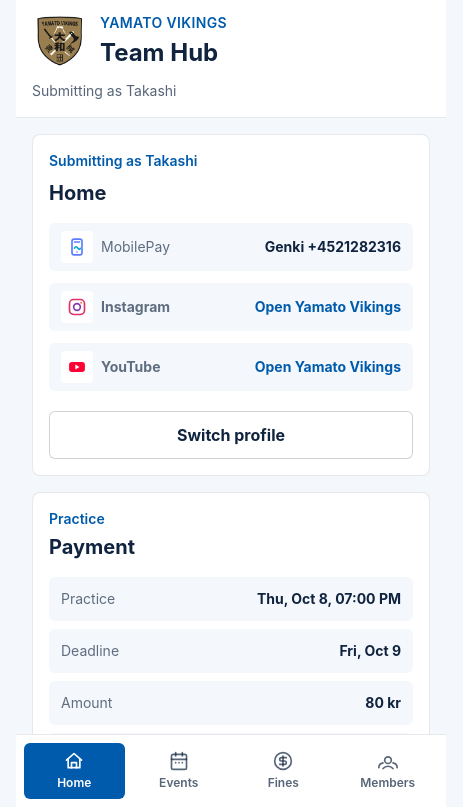
App shell › keeps an admin member payment exemption after saving
expect the heading "Home" is shown: met, box [49, 181, 106, 205]
Click the link "Members": (388, 770) [360, 751, 415, 790]
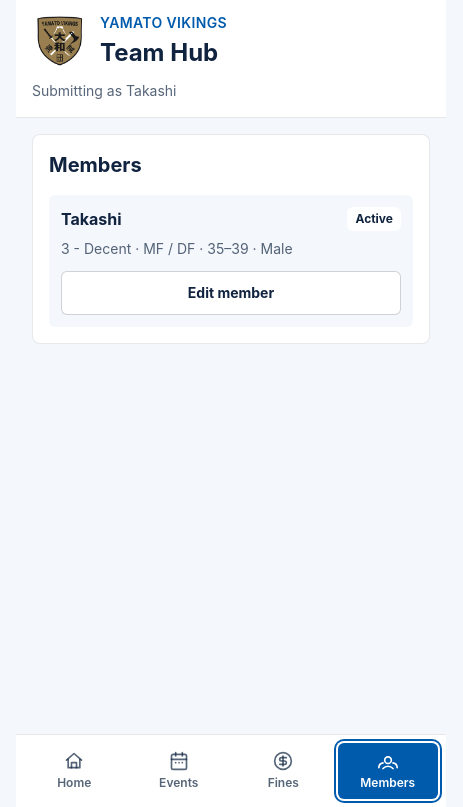
Click the button "Edit member": (231, 293) [61, 271, 401, 315]
(page scrolled)
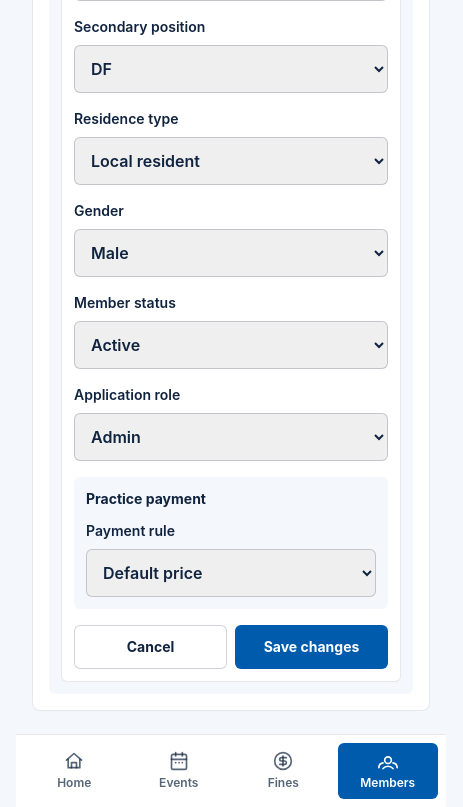
Select "Exempt" in the dropdown labelled "Payment rule": (231, 573) [86, 549, 376, 597]
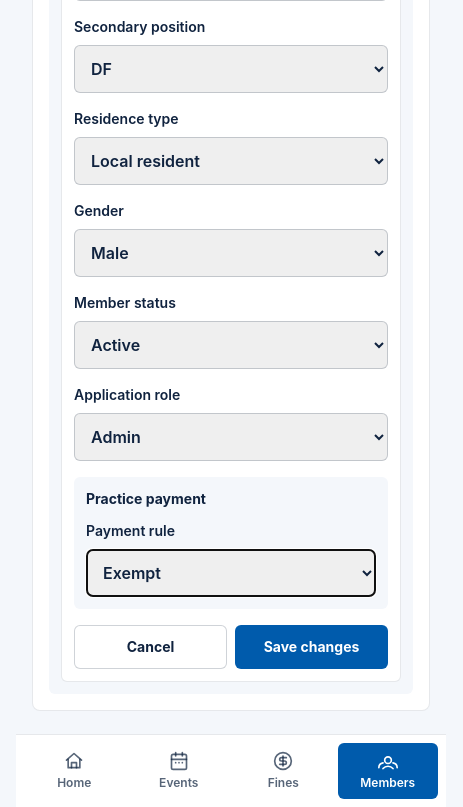
Click the button "Save changes": (312, 647) [235, 625, 388, 669]
(page scrolled)
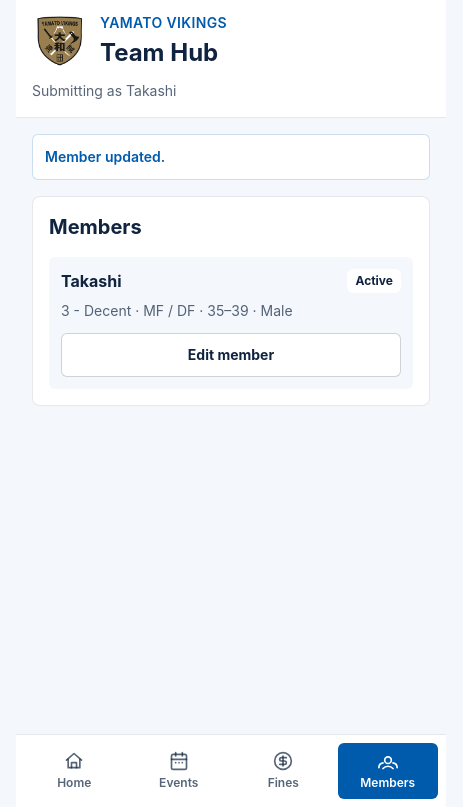
expect the text "Member updated." is shown: met, box [32, 134, 430, 180]
Click the button "Edit member": (231, 355) [61, 333, 401, 377]
(page scrolled)
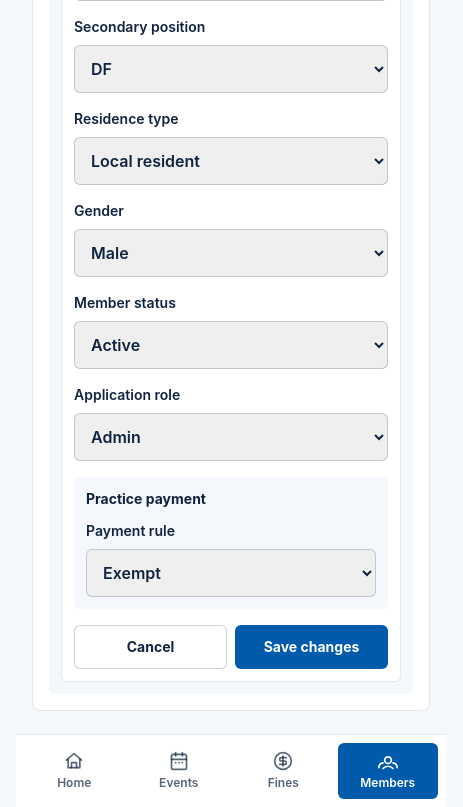
expect the dropdown labelled "Payment rule" shows "Exempt": met, box [86, 549, 376, 597]
